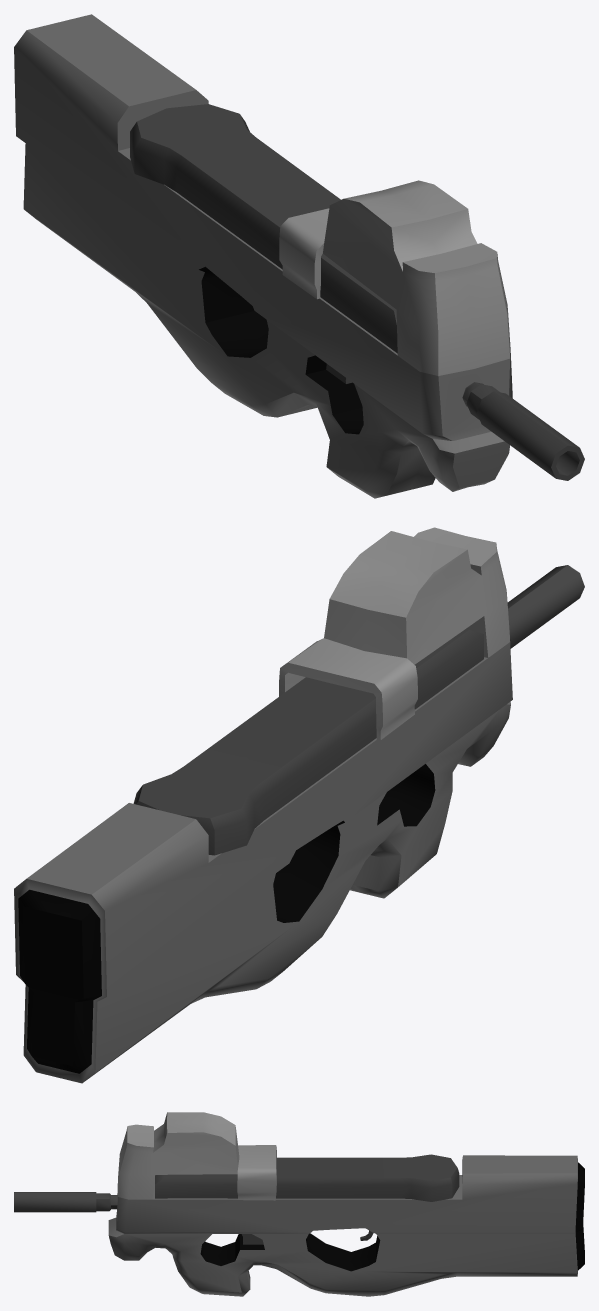
Rendered from 07-Bullpup-SMG.glb.
3 renders of one model, top to bottom at view 1: azimuth 30°, elevation 25°; view 2: azimuth 150°, elevation 25°; view 3: azimuth 270°, elevation 25°, orthographic. The views are drawn at different scales.
Visible parts, largest first — view 1: Bullpup SMG; view 2: Bullpup SMG; view 3: Bullpup SMG.
Boxes of the visible parts, <box> form: Bullpup SMG: <box>14,14,584,498</box>; Bullpup SMG: <box>14,527,584,1083</box>; Bullpup SMG: <box>14,1112,584,1296</box>.
Size of the model in its own units: 0.0792 by 0.208 by 0.64.
Materials: 1 (1 with a texture image).
